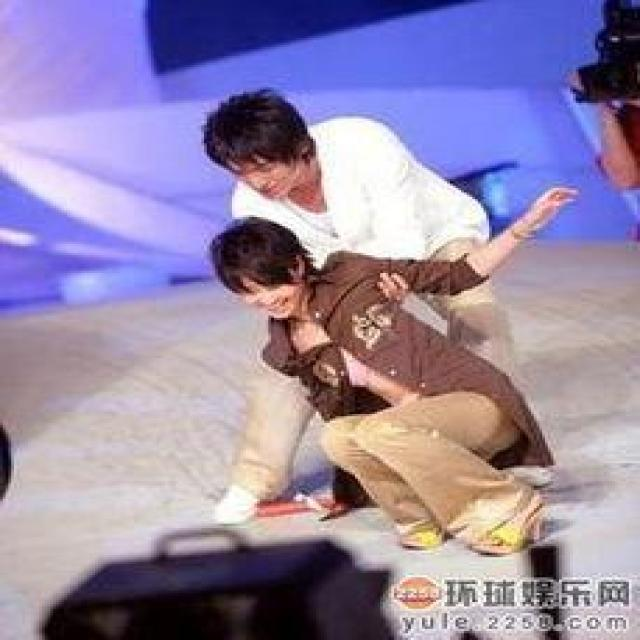fall: (209, 206, 562, 554)
nonfall: (203, 92, 503, 529)
